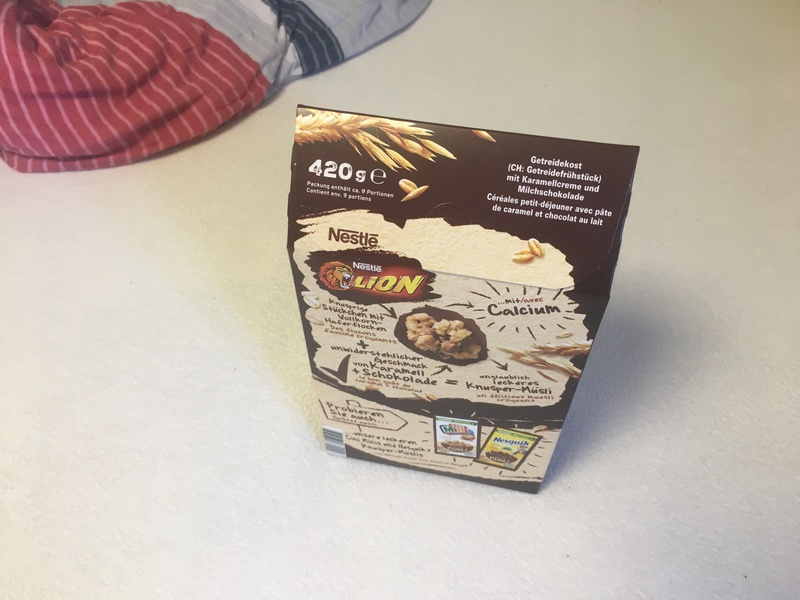cereals: (286, 104, 640, 495)
